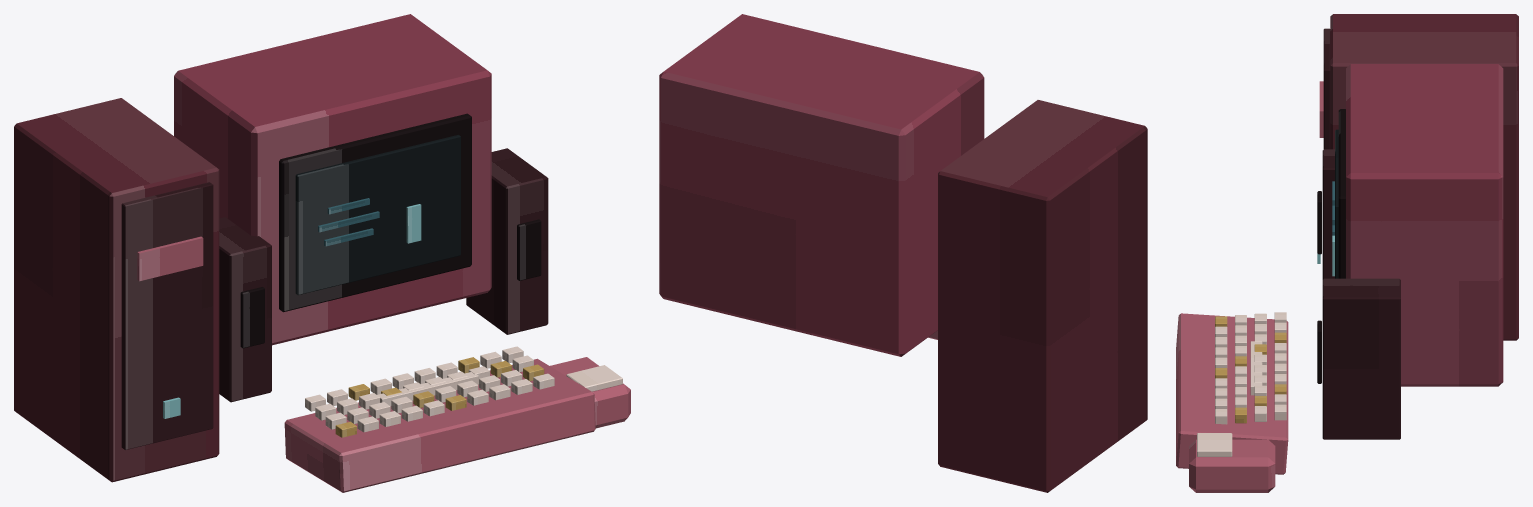
File: retro_computer_tower_burgundy.glb
The picture shows the model from 3 angles, left to right: view 1: azimuth 30°, elevation 25°; view 2: azimuth 150°, elevation 25°; view 3: azimuth 270°, elevation 25°; orthographic projection. The views are drawn at different scales.
Visible parts, largest first — view 1: Tower, MonitorShell, TowerFace, MonitorGlow, KeyboardBody, MonitorFace, Speaker_R, Speaker_L, DriveBay, Mouse, SpeakerCone_L, SpeakerCone_R (+2 smaller); view 2: MonitorShell, Tower; view 3: MonitorShell, Tower, Speaker_R, KeyboardBody, Mouse, Speaker_L, MonitorFace, TowerFace, MouseButton, MonitorGlow, SpaceBar.
Part boxes in pixels (x1,y1,x2,y2): Tower: (14, 98, 219, 482); MonitorShell: (174, 14, 491, 345); TowerFace: (121, 182, 213, 449); MonitorGlow: (295, 135, 460, 295); KeyboardBody: (284, 358, 595, 492); MonitorFace: (279, 113, 471, 312); Speaker_R: (466, 148, 548, 334); Speaker_L: (219, 217, 271, 402); DriveBay: (137, 236, 203, 281); Mouse: (550, 357, 630, 428); SpeakerCone_L: (240, 287, 264, 348); SpeakerCone_R: (517, 219, 541, 280); MonitorShell: (659, 14, 984, 356); Tower: (938, 100, 1147, 492); MonitorShell: (1346, 64, 1503, 386); Tower: (1330, 14, 1518, 340); Speaker_R: (1322, 278, 1400, 439); KeyboardBody: (1176, 313, 1288, 474); Mouse: (1189, 439, 1275, 492); Speaker_L: (1322, 149, 1334, 279); MonitorFace: (1338, 109, 1345, 278); TowerFace: (1323, 28, 1330, 149); MouseButton: (1197, 433, 1232, 456); MonitorGlow: (1335, 129, 1338, 278); SpaceBar: (1250, 341, 1262, 395).
Bounding box in the file's own units: 1.27 × 0.84 × 0.8729.
Materials: 1 (1 with a texture image).
